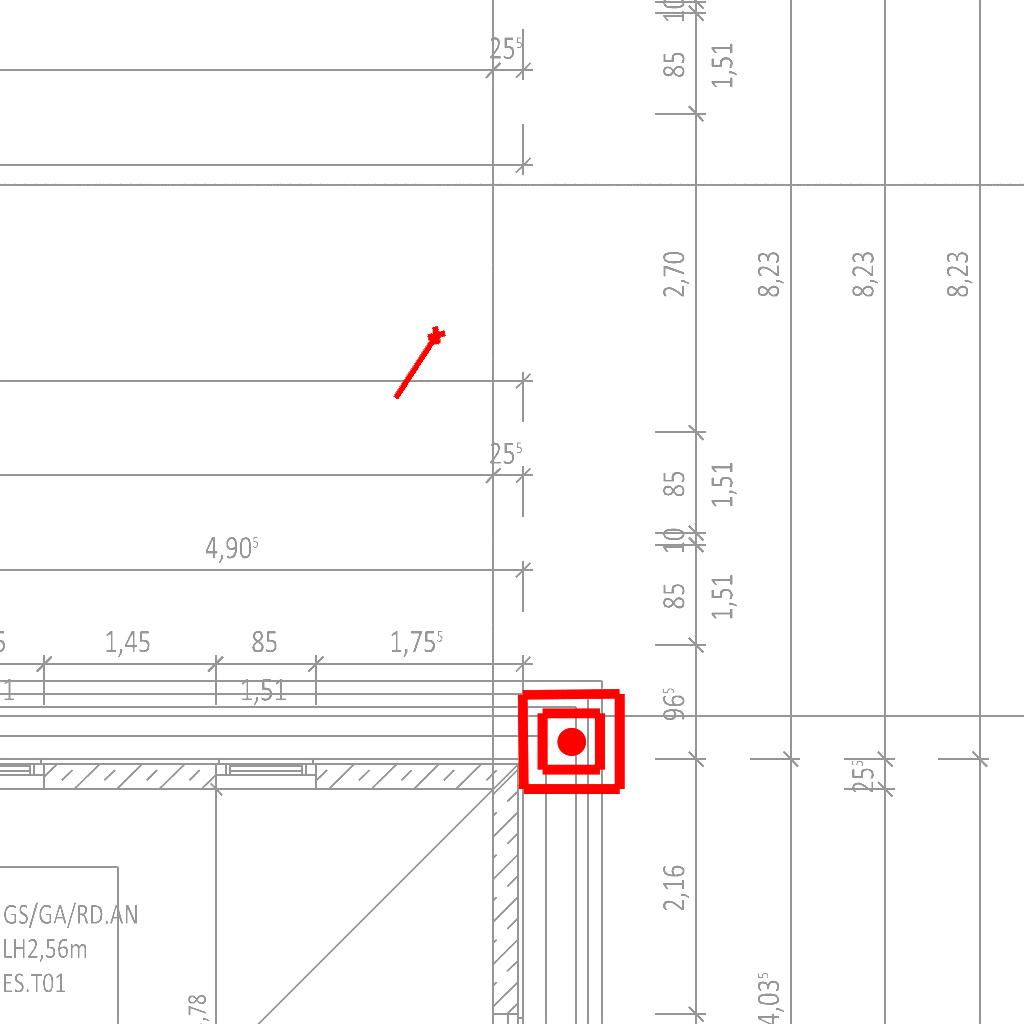ASR_Ansaugoeffnung: (385, 321, 453, 408)
NAM-Nichtautomatischer_Melder: (515, 685, 628, 798)
